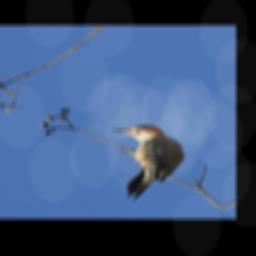Woodpecker: (104, 118, 189, 204)
